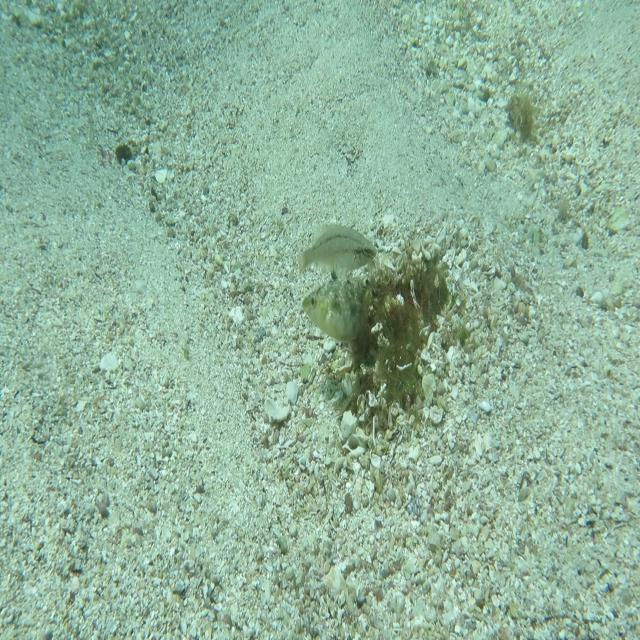DAN_CIRC: (301, 262, 370, 344)
female: (296, 221, 378, 276)
nest: (324, 228, 454, 432)
